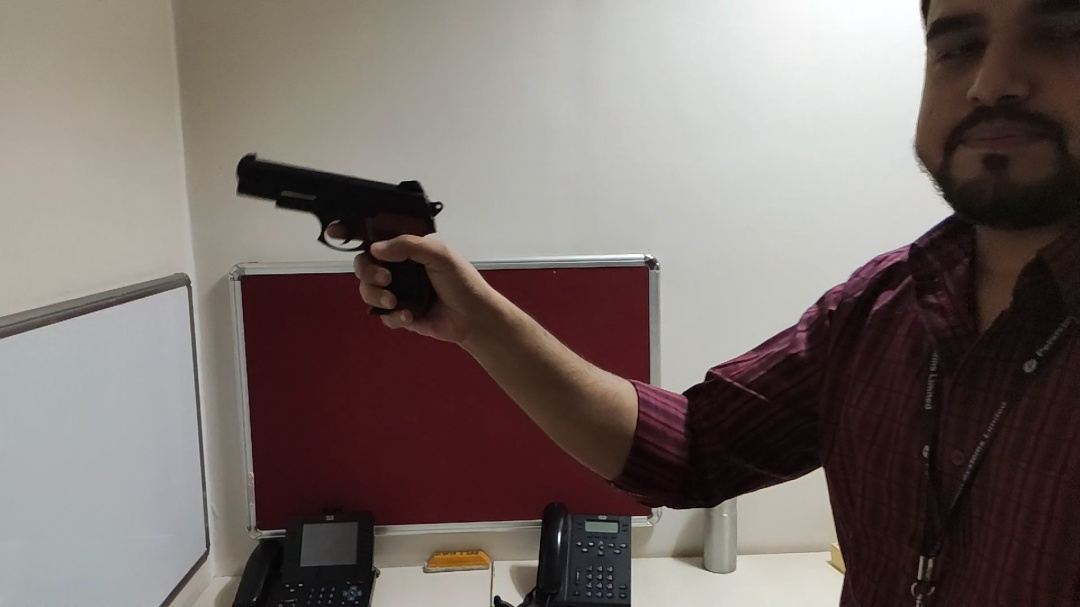gun: (234, 149, 447, 323)
